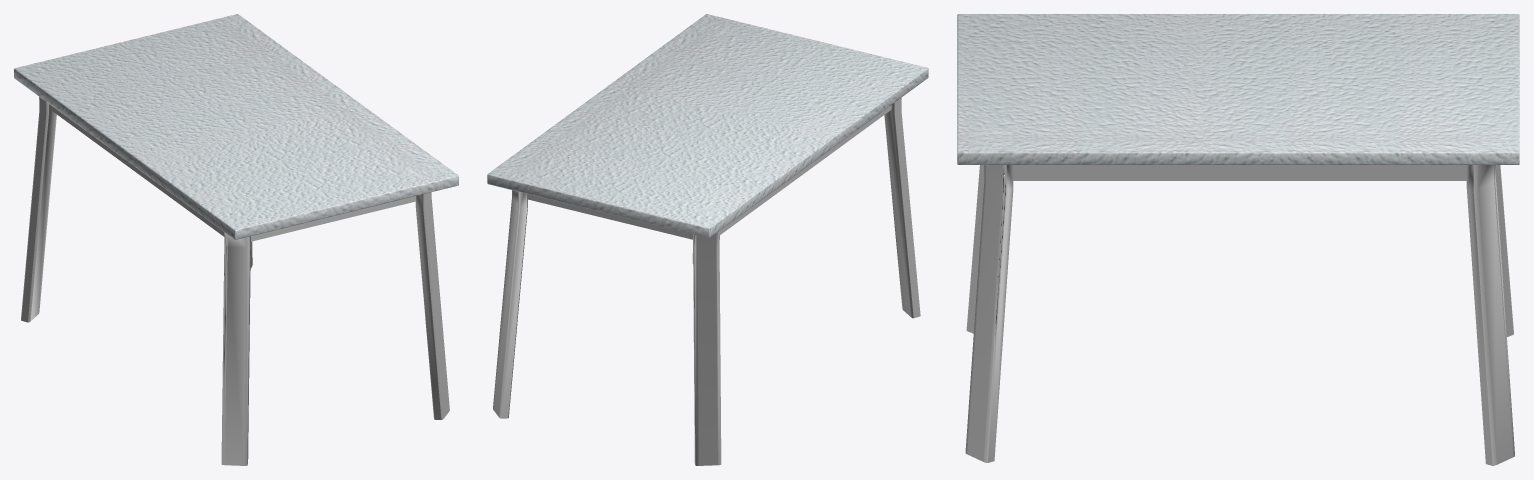
File: Table01.fbx
3 views of the same model, side by side, from view 1: azimuth 30°, elevation 25°; view 2: azimuth 150°, elevation 25°; view 3: azimuth 270°, elevation 25° (orthographic). The views are drawn at different scales.
Parts seen in each view (by area): view 1: Table01_LOD0; view 2: Table01_LOD0; view 3: Table01_LOD0.
Boxes of the visible parts, bbox=[...] form: Table01_LOD0: bbox=[14, 14, 458, 465]; Table01_LOD0: bbox=[487, 14, 928, 465]; Table01_LOD0: bbox=[957, 14, 1519, 465].
Size of what is drawn, in the model's own units: 87.67 by 89.17 by 146.
